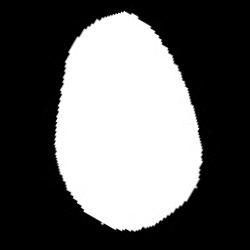spot: (51, 9, 203, 230)
